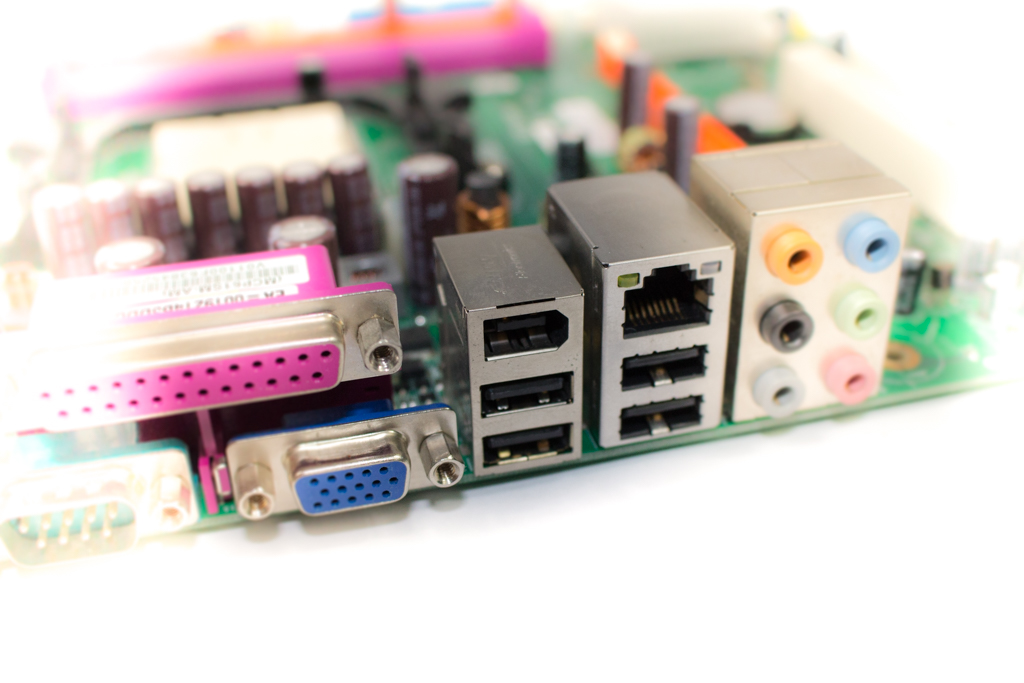Audio: (845, 217, 903, 278), (767, 231, 825, 289), (760, 302, 818, 352), (830, 358, 879, 401)
Ethernet: (605, 243, 734, 343)
USB: (469, 365, 584, 416), (481, 419, 584, 475), (618, 392, 710, 448)
VGA: (280, 463, 432, 516)
